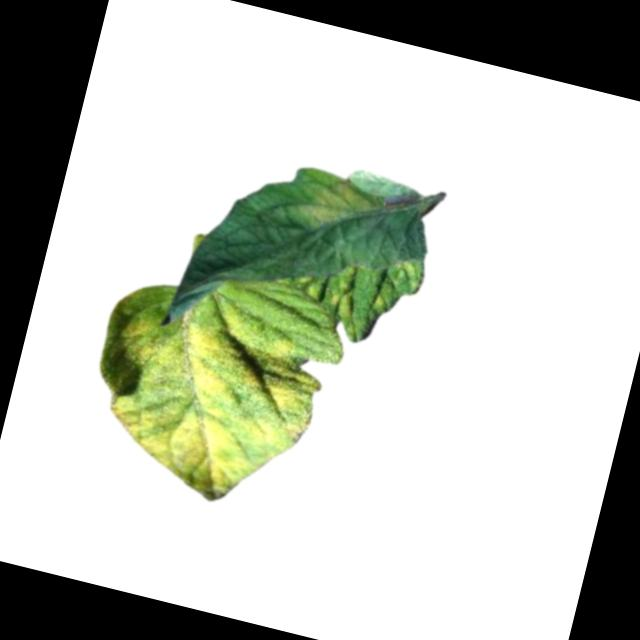Leaf_Mold: (73, 281, 337, 520), (289, 164, 383, 247), (323, 262, 365, 322), (385, 254, 429, 294)
